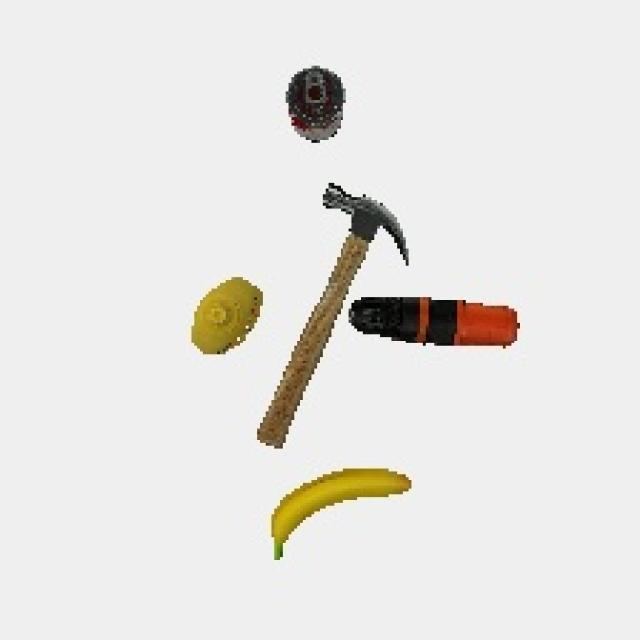Banana: (256, 462, 418, 574)
MustardBottle: (178, 273, 270, 368)
PowerDrill: (350, 295, 525, 354)
TomatoSoupCan: (276, 61, 353, 153)
